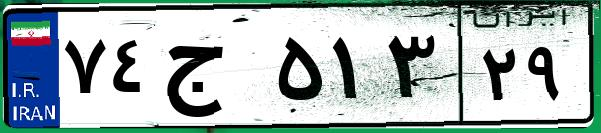1: (330, 28, 385, 110)
2: (475, 38, 525, 113)
3: (385, 28, 445, 110)
4: (110, 28, 158, 98)
5: (270, 28, 330, 110)
7: (57, 26, 110, 100)
9: (525, 38, 570, 115)
ج: (158, 20, 270, 120)
